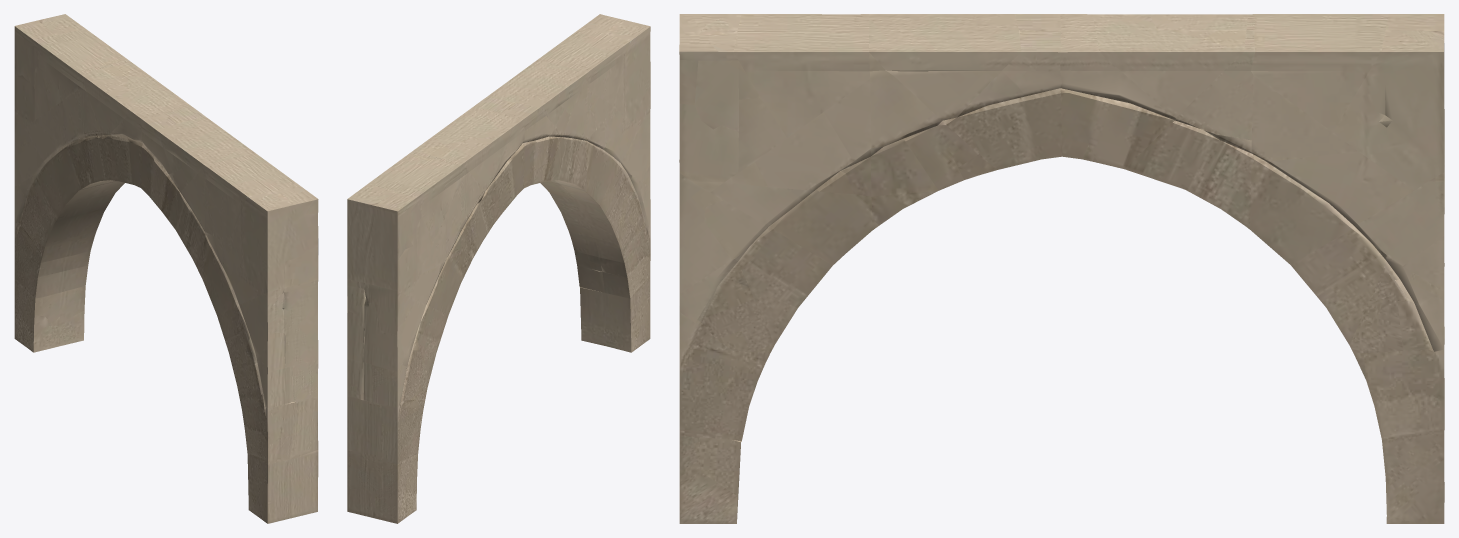
The model's file is SM_GongMen01_8d127e.glb.
3 views of the same model, side by side, from view 1: azimuth 30°, elevation 25°; view 2: azimuth 150°, elevation 25°; view 3: azimuth 270°, elevation 25° (orthographic). The views are drawn at different scales.
Parts seen in each view (by area): view 1: SM_GongMen01; view 2: SM_GongMen01; view 3: SM_GongMen01.
Part boxes in pixels (x1,y1,x2,y2): SM_GongMen01: (14,14,318,523); SM_GongMen01: (347,14,650,523); SM_GongMen01: (679,14,1444,523).
Bounding box in the file's own units: 0.1142 × 0.6667 × 0.9778.
Materials: 1 (1 with a texture image).
